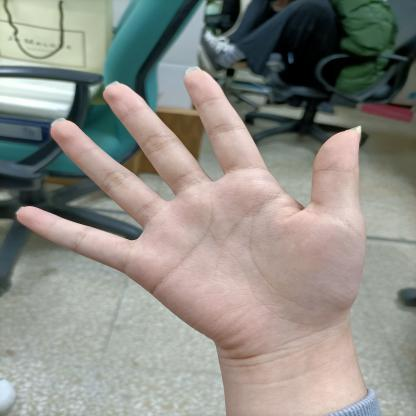bare_hand: (9, 58, 394, 366)
